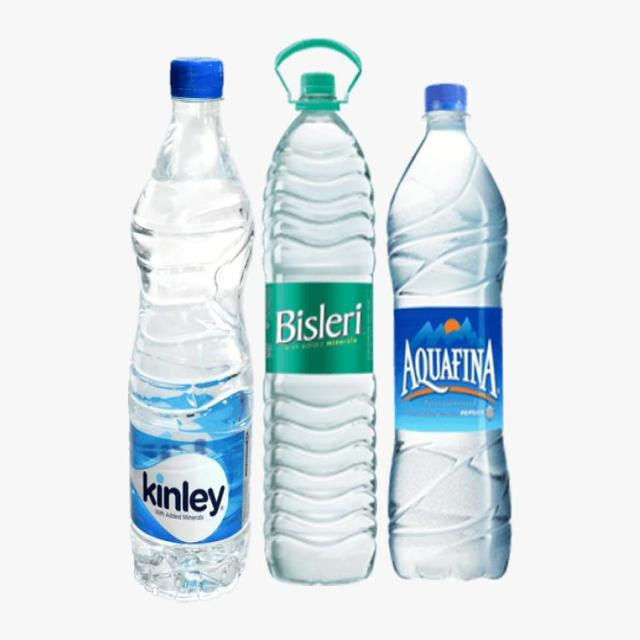bottle: (124, 56, 256, 611), (383, 65, 514, 588), (264, 26, 382, 586)
